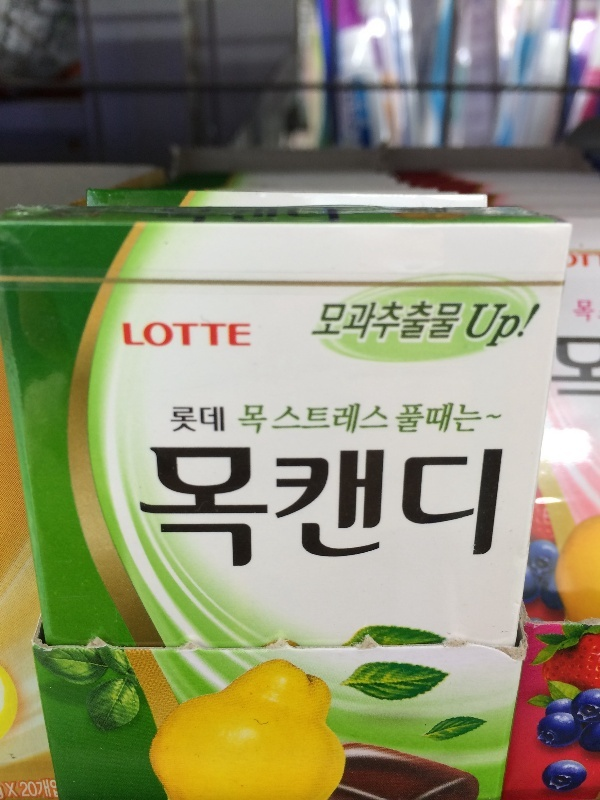text: (145, 444, 160, 573), (161, 444, 176, 573), (177, 444, 192, 573), (193, 444, 208, 573), (209, 444, 224, 573), (225, 444, 240, 573), (241, 444, 256, 573), (257, 444, 272, 573), (273, 444, 288, 573), (289, 444, 304, 573), (305, 444, 320, 573), (321, 444, 336, 573), (337, 444, 352, 573), (353, 444, 368, 573), (369, 444, 384, 573), (385, 444, 400, 573), (401, 444, 416, 573), (417, 444, 432, 573), (433, 444, 448, 573), (449, 444, 464, 573), (465, 444, 480, 573), (481, 444, 496, 573), (134, 444, 144, 573), (497, 444, 505, 573), (561, 335, 576, 397), (577, 335, 592, 397), (481, 301, 496, 353), (497, 301, 512, 353), (513, 301, 528, 353), (529, 301, 544, 353), (337, 300, 352, 344), (353, 300, 368, 344), (369, 300, 384, 344), (385, 300, 400, 344), (401, 300, 416, 344), (417, 300, 432, 344), (433, 300, 448, 344), (449, 300, 464, 344), (322, 300, 336, 344), (289, 401, 304, 438), (305, 401, 320, 438), (321, 401, 336, 438), (337, 401, 352, 438), (353, 401, 368, 438), (369, 401, 384, 438), (401, 400, 416, 434), (417, 400, 432, 434), (433, 400, 448, 434), (449, 400, 464, 434), (465, 400, 480, 434), (481, 400, 496, 434), (241, 403, 256, 435), (593, 335, 600, 397), (209, 406, 225, 433), (257, 403, 270, 435), (177, 406, 192, 433), (193, 406, 208, 433), (577, 298, 592, 324), (129, 322, 144, 347), (145, 322, 160, 347), (161, 322, 176, 347), (177, 322, 192, 347), (193, 322, 208, 347), (209, 322, 224, 347), (225, 322, 240, 347), (473, 301, 480, 353), (577, 249, 592, 269), (17, 779, 32, 798), (33, 779, 48, 798), (241, 322, 252, 347), (49, 780, 64, 798), (4, 779, 16, 798), (282, 401, 288, 438), (1, 786, 16, 800), (497, 400, 503, 434), (169, 406, 176, 433), (557, 335, 560, 397), (568, 248, 576, 270), (395, 400, 400, 434), (385, 401, 389, 438), (571, 298, 576, 324), (123, 322, 128, 347), (594, 249, 600, 269), (237, 403, 240, 435), (593, 249, 596, 269), (49, 779, 52, 798), (593, 298, 595, 324), (465, 300, 466, 344)
